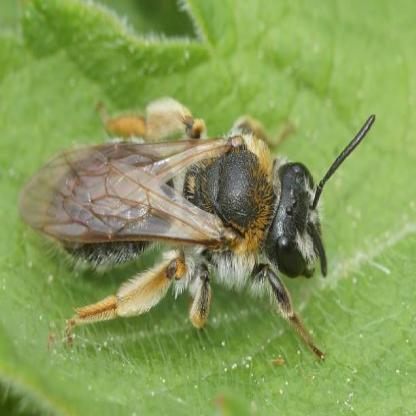sawfly: (17, 79, 376, 362)
